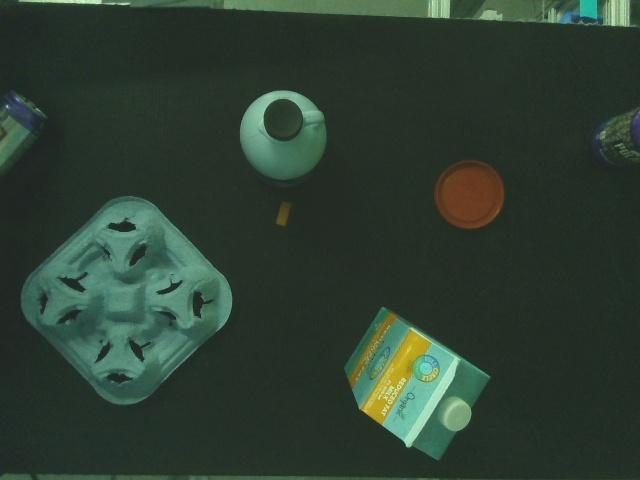cardboard: (19, 193, 236, 408), (340, 300, 496, 466)
metal: (428, 151, 514, 238), (0, 91, 54, 187), (586, 98, 640, 181)
plastic: (236, 86, 331, 190), (274, 197, 295, 228)
